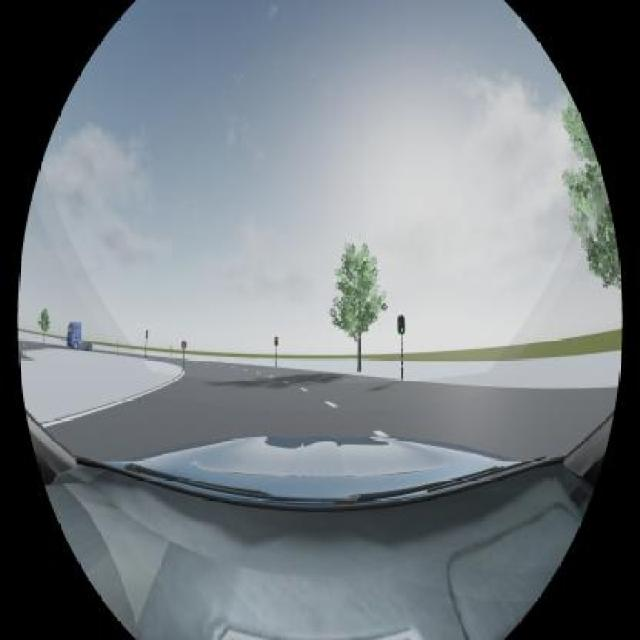forb_speed_over_70: (181, 340, 187, 348)
